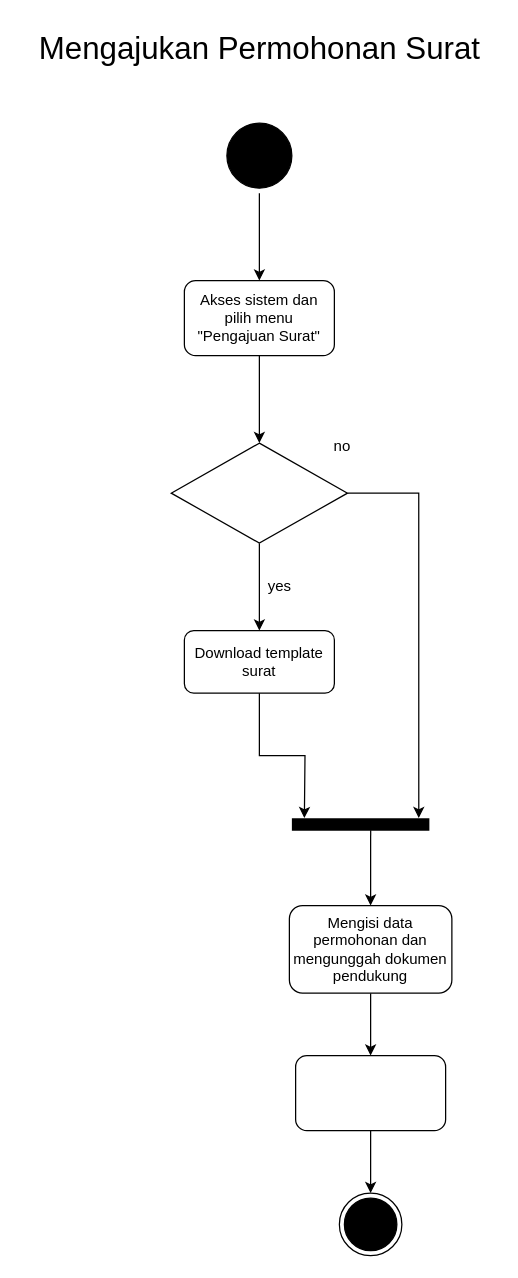
Some shapes in this 518 by 1278 pixel diagram are drawn without their labels. Here are the shapes that lost their labels. From the top down, the box of each, then its label:
(170, 442, 348, 543): Apakah ingin menggunakan template surat?
(294, 1054, 446, 1131): Mengirim pengajuan
